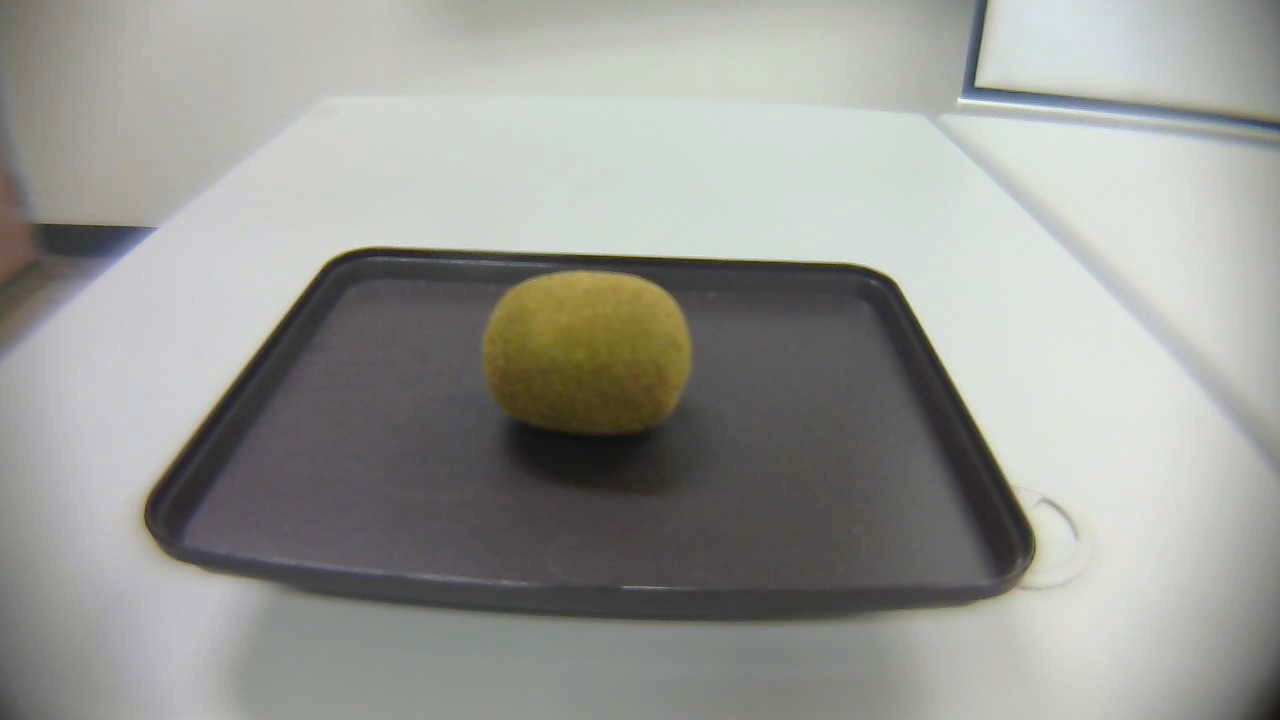kiwi fruit: (470, 261, 701, 458)
